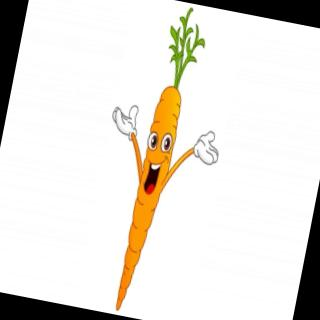Wortel: (63, 1, 251, 320)
